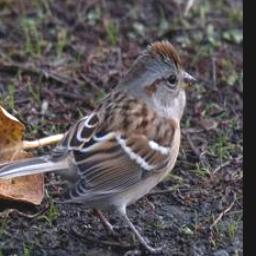Sparrow: (0, 37, 201, 256)
